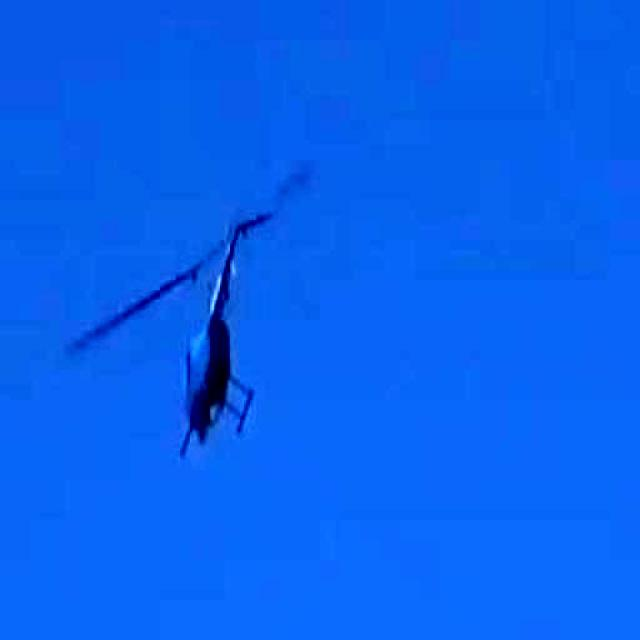drone: (92, 189, 319, 489)
